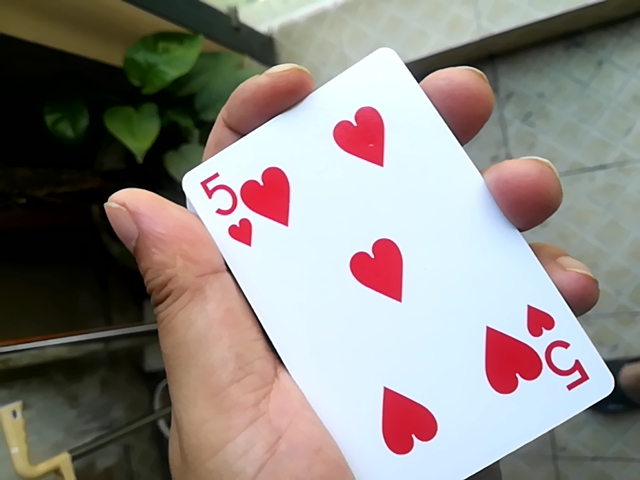hx 5: (179, 47, 609, 480)
